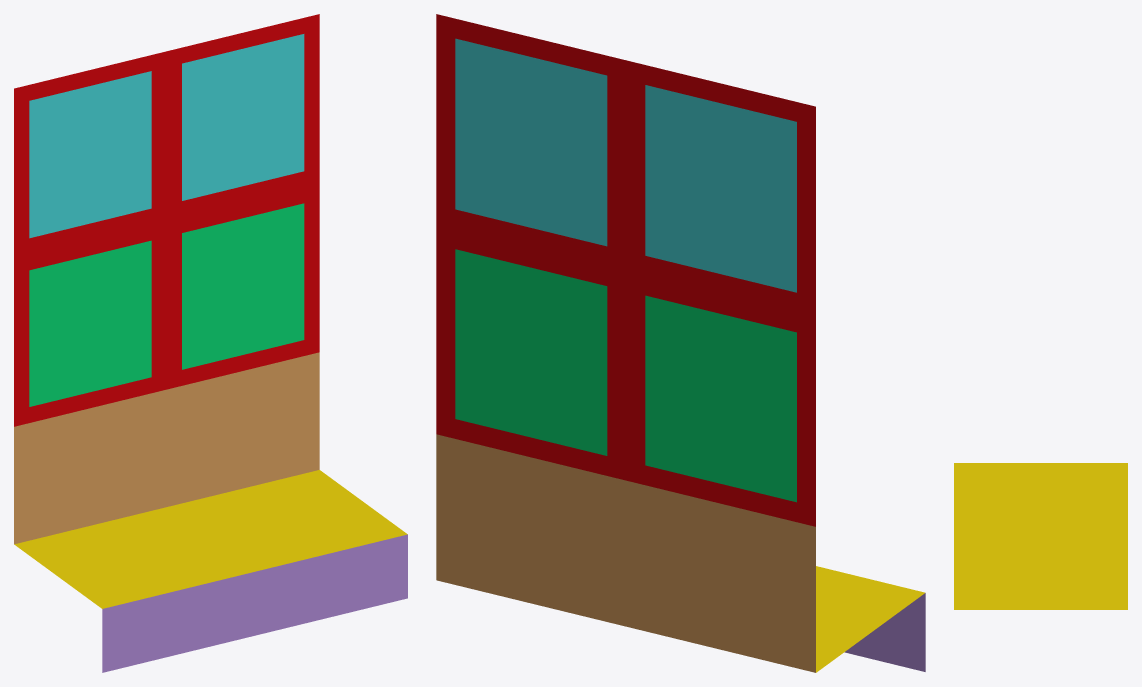
Rendered from Second Row.fbx.
3 renders of one model, left to right at view 1: azimuth 30°, elevation 25°; view 2: azimuth 150°, elevation 25°; view 3: azimuth 270°, elevation 25°, orthographic. The views are drawn at different scales.
Visible parts, largest first — view 1: Top Row; view 2: Top Row; view 3: Top Row.
Part boxes in pixels (box(x1,y1,x2,y2)): Top Row: box(14, 14, 407, 672); Top Row: box(436, 14, 925, 672); Top Row: box(954, 463, 1127, 609).
Size of the model in its own units: 400 by 650 by 200.
